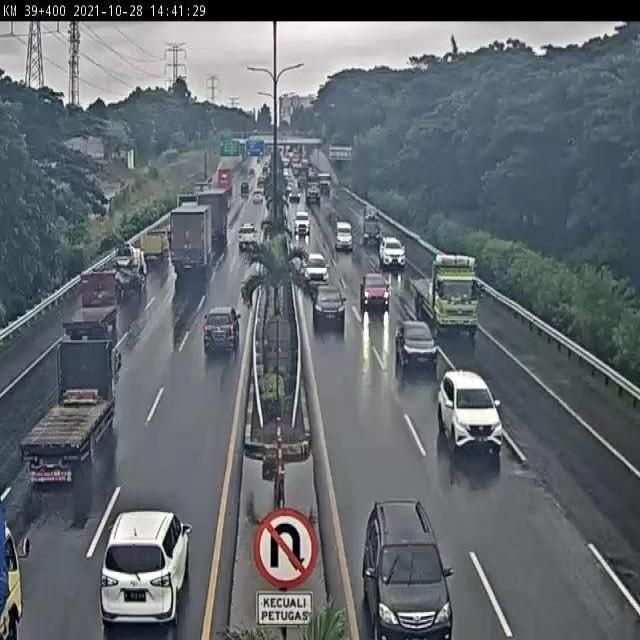Car: (358, 493, 456, 640), (100, 508, 191, 636), (436, 368, 504, 461), (394, 323, 439, 375), (204, 303, 242, 356), (314, 282, 348, 333), (360, 275, 390, 314), (304, 253, 331, 288), (378, 238, 406, 268), (336, 220, 355, 251), (292, 208, 310, 238), (239, 181, 255, 198), (251, 190, 266, 206), (289, 192, 303, 206)
Truck: (19, 322, 122, 486), (411, 254, 484, 338), (1, 494, 32, 640), (64, 268, 118, 342), (170, 204, 211, 275), (193, 190, 229, 245), (142, 226, 168, 266), (236, 222, 259, 250), (305, 185, 323, 206), (317, 172, 332, 195)
